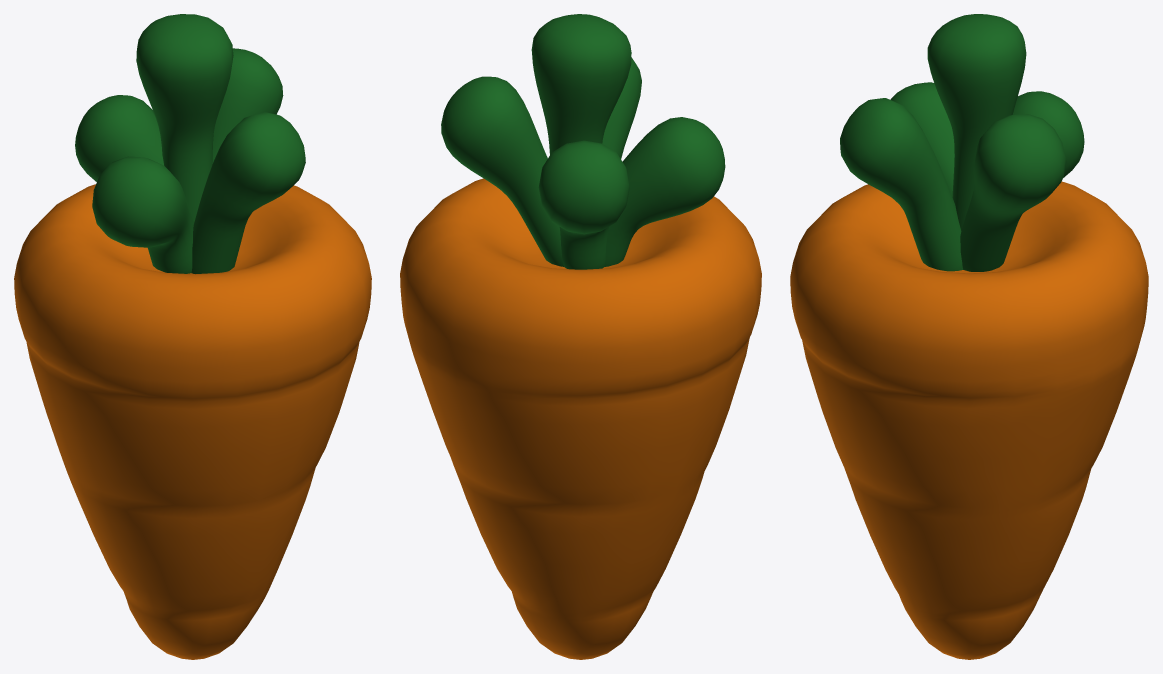
Rendered from carrot.fbx.
3 renders of one model, left to right at view 1: azimuth 30°, elevation 25°; view 2: azimuth 150°, elevation 25°; view 3: azimuth 270°, elevation 25°, orthographic.
Visible parts, largest first — view 1: Carrot, Vert; view 2: Carrot, Vert; view 3: Carrot, Vert.
Boxes of the visible parts, x1=… form: Carrot: x1=14, y1=184, x2=371, y2=659; Vert: x1=75, y1=14, x2=305, y2=273; Carrot: x1=400, y1=178, x2=761, y2=659; Vert: x1=441, y1=14, x2=725, y2=269; Carrot: x1=790, y1=181, x2=1148, y2=659; Vert: x1=840, y1=14, x2=1084, y2=271.
Bounding box in the file's own units: 109 × 212 × 109.
